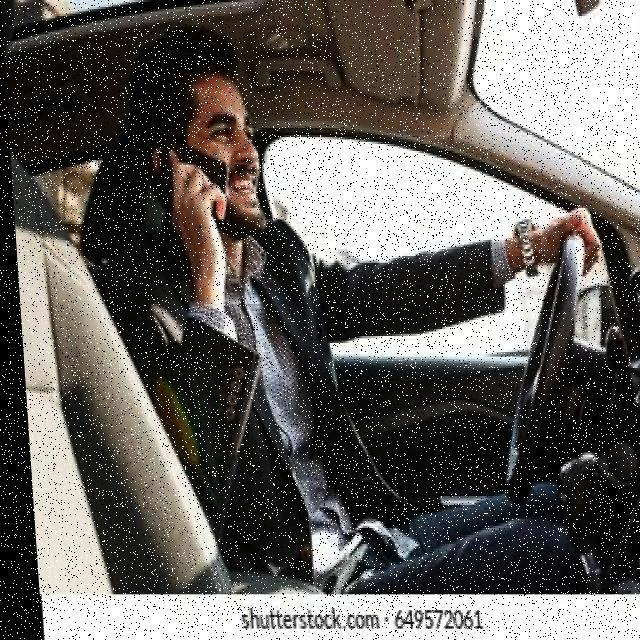noSeatbelt: (133, 196, 374, 552)
